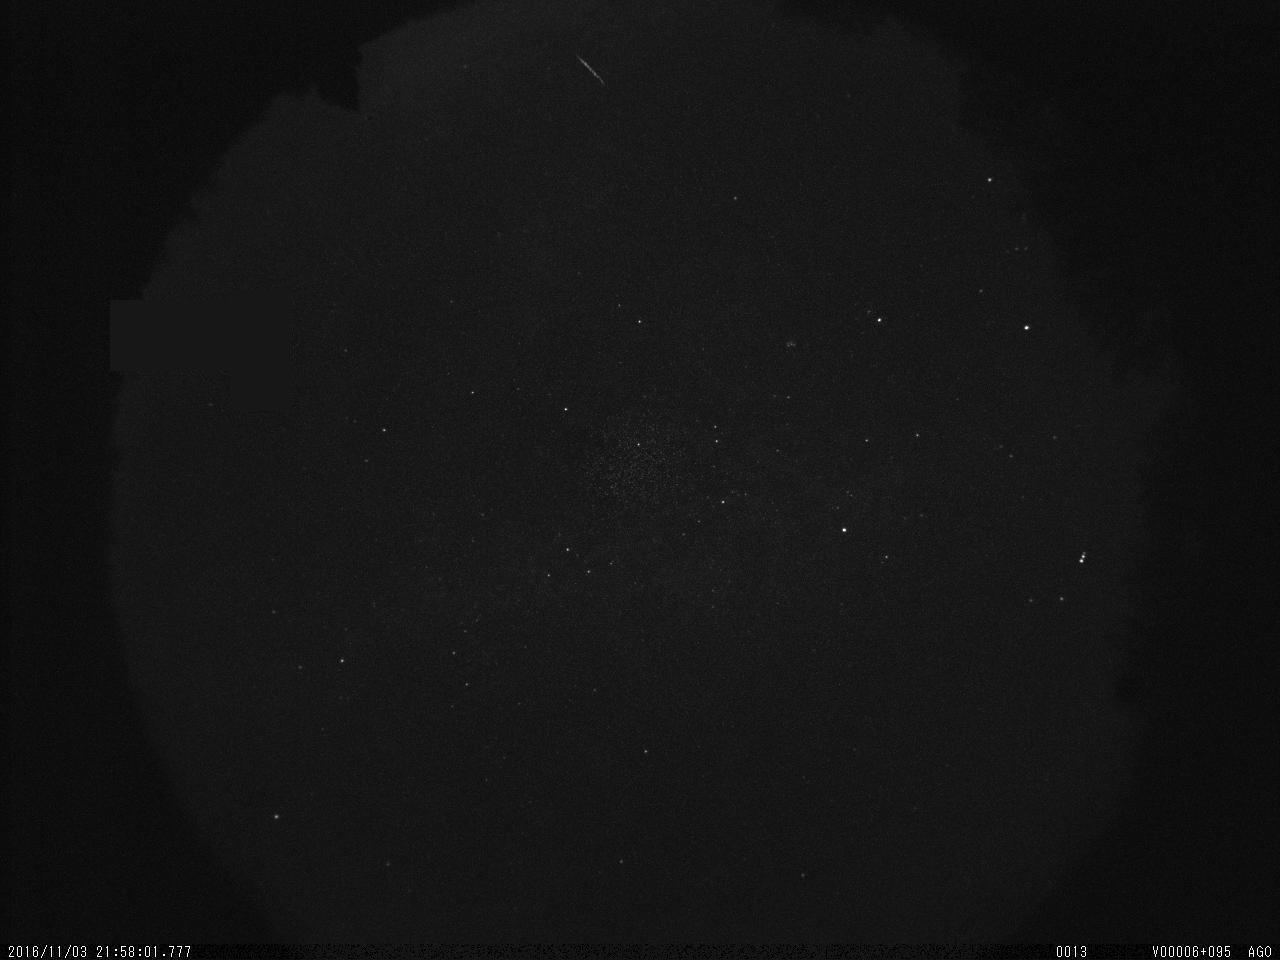Meteor: (573, 51, 606, 88)
